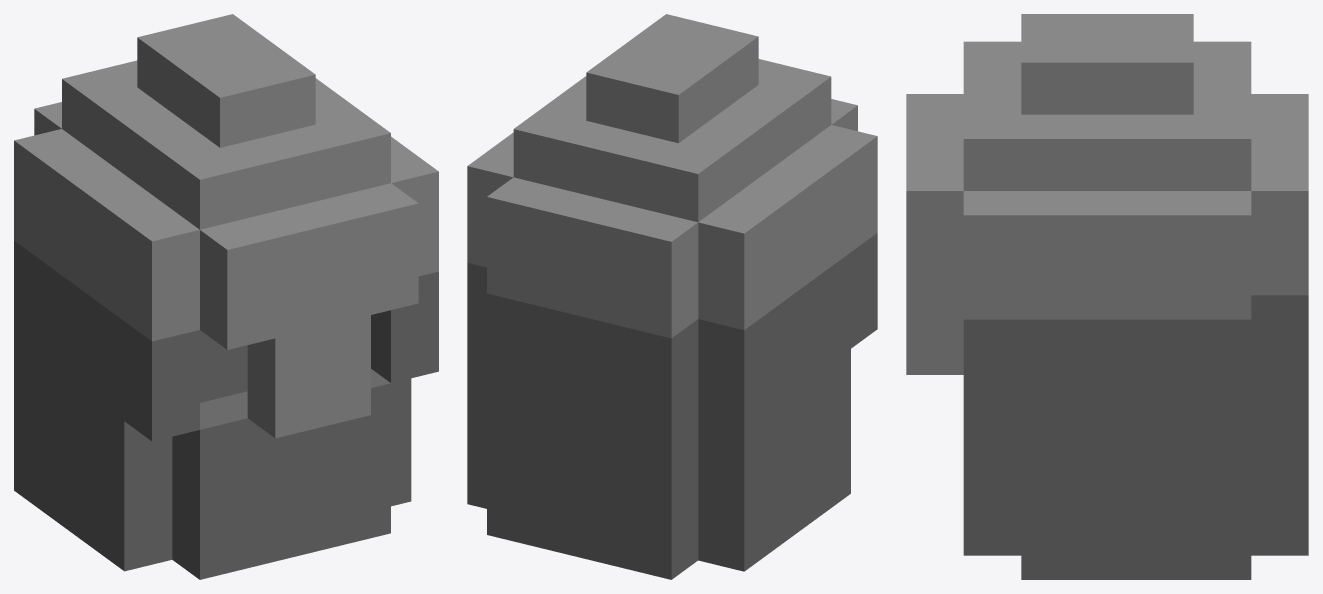
File: character-152-helm_hvy_1a_sh.obj
The picture shows the model from 3 angles, left to right: view 1: azimuth 30°, elevation 25°; view 2: azimuth 150°, elevation 25°; view 3: azimuth 270°, elevation 25°; orthographic projection. The views are drawn at different scales.
Visible parts, largest first — view 1: helm_hvy_1a_sh; view 2: helm_hvy_1a_sh; view 3: helm_hvy_1a_sh.
Part boxes in pixels (box(x1,y1,x2,y2)): helm_hvy_1a_sh: box(14, 14, 438, 579); helm_hvy_1a_sh: box(467, 14, 877, 579); helm_hvy_1a_sh: box(906, 14, 1308, 579).
Bounding box in the file's own units: 0.6 × 0.9 × 0.7.
Materials: 1 (1 with a texture image).
